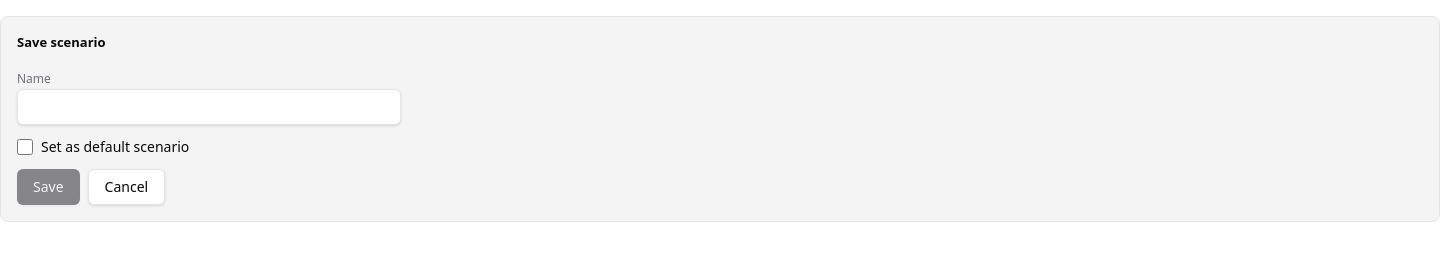
Test: ScenarioSavePanel › invalidates the scenario list even when the default switch fails after create
Type "New default" into the field labelled "Name" at (209, 106), box [17,88,401,124]
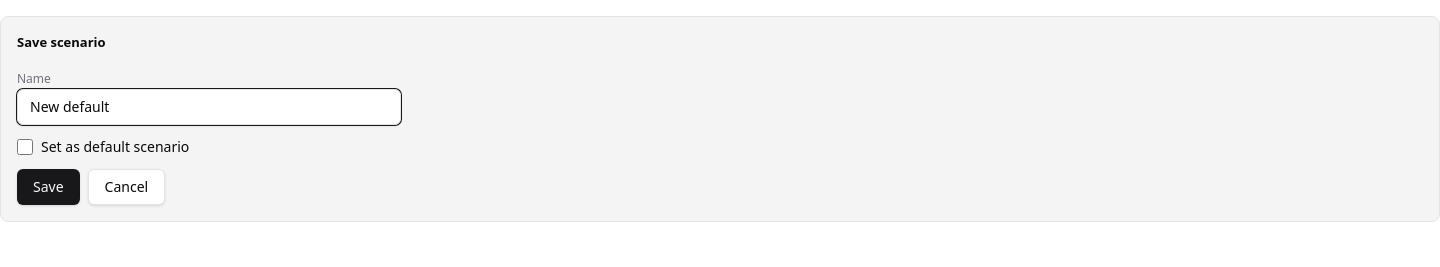
Click the checkbox labelled "Set as default scenario" at (25, 146), box [17,138,33,154]
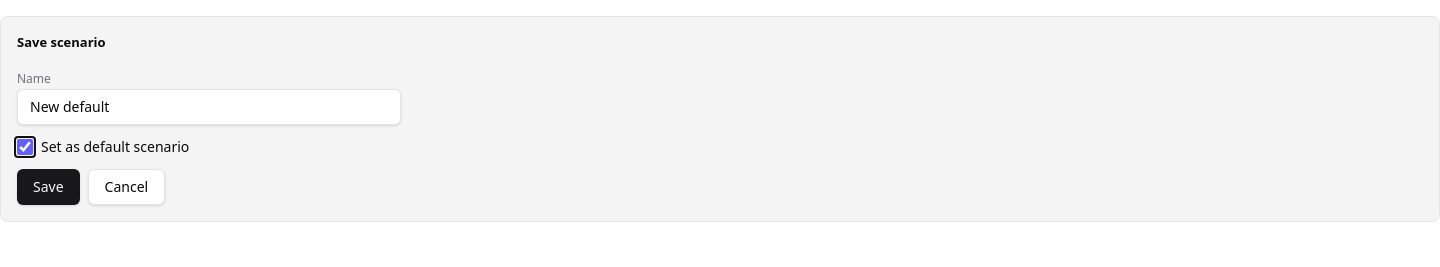
Click the button "Save" at (48, 186), box [17,168,80,204]
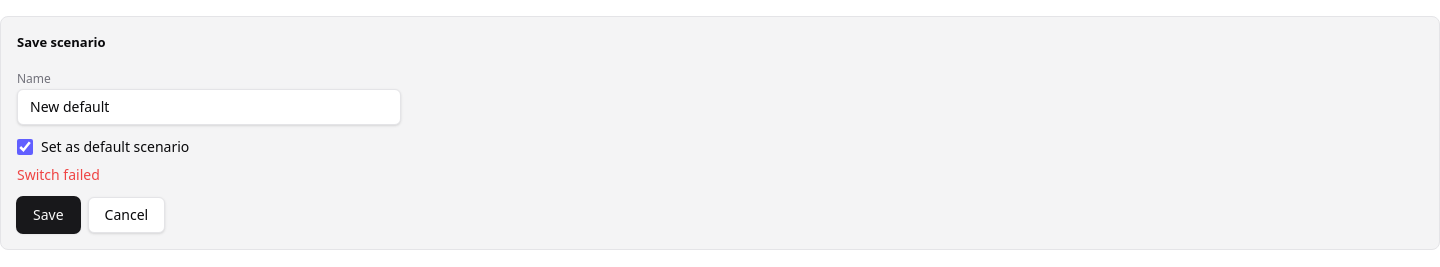
Expected: the text "Switch failed" is shown, [17,164,100,184]
